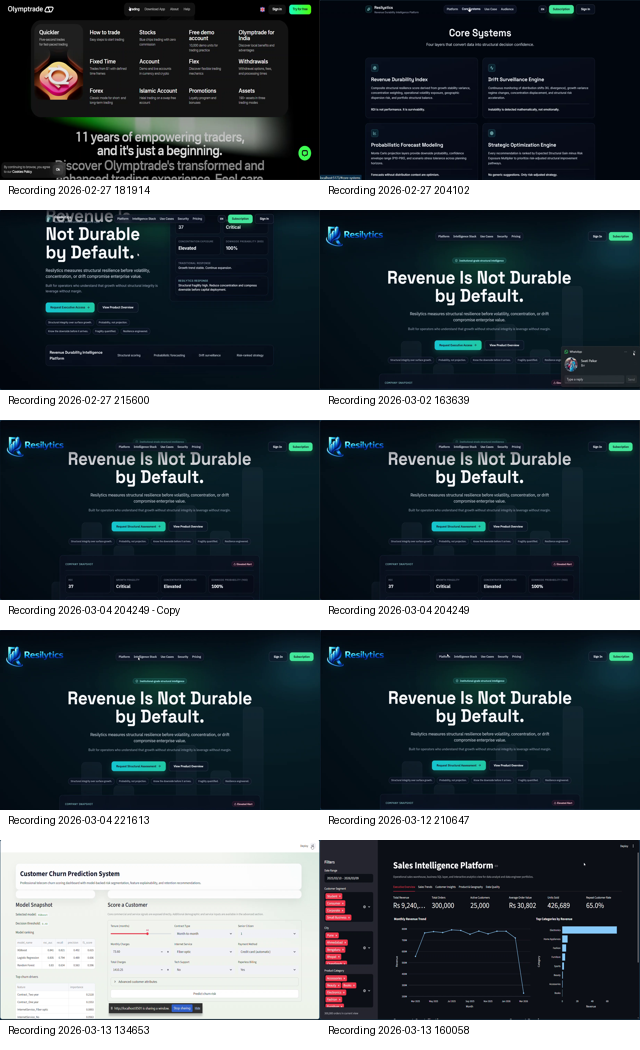

Layout of this report page (visuals, bound fields, positions):
{"tool":"powerbi","page":{"name":"Page 1","canvas":[1280,720],"ordinal":0},"visuals":[{"type":"card","title":"REVENUE","fields":{"Values":["fact_sales.Total Revenue"]},"box":[0,65,215,88.8],"z":0},{"type":"card","title":"ORDER VALUE","fields":{"Values":["fact_sales.Avg Order Value"]},"box":[230,153.8,215,87.5],"z":1000},{"type":"card","title":"UNIT SOLD","fields":{"Values":["fact_sales.Units Sold"]},"box":[230,65,215,88.8],"z":2000},{"type":"card","title":"TOTAL ORDERS","fields":{"Values":["fact_sales.Total Orders"]},"box":[0,153.8,215,87.5],"z":3000},{"type":"lineChart","title":"Monthly Revenue Growth Trend","fields":{"Category":["dim_date.Month Name"],"Y":["fact_sales.Total Revenue"]},"box":[0,242.5,402.5,236.2],"z":4000},{"type":"donutChart","title":"Category Revenue Contribution","fields":{"Category":["dim_product.category"],"Y":["fact_sales.Total Revenue"]},"box":[402.5,242.5,437.5,236.2],"z":5000},{"type":"pieChart","title":"Customer Segment Revenue","fields":{"Category":["dim_customer.segment"],"Y":["fact_sales.Total Revenue"]},"box":[840,242.5,440,235],"z":6000},{"type":"barChart","title":"Top Performing Products","fields":{"Category":["dim_product.product_name"],"Y":["fact_sales.Total Revenue"]},"box":[0,478.8,402.5,241.2],"z":7000},{"type":"map","title":"City Sales Distribution","fields":{"Size":["fact_sales.Total Revenue"],"Category":["dim_customer.city"]},"box":[840,477.5,440,242.5],"z":9000},{"type":"slicer","title":"CATEGORY","fields":{"Values":["dim_product.category"]},"box":[458.8,0,181.2,241.2],"z":10000},{"type":"slicer","title":"PRODUCT","fields":{"Values":["dim_product.product_name"]},"box":[650,0,180,242.5],"z":11000},{"type":"slicer","title":"CITY","fields":{"Values":["dim_customer.city"]},"box":[830,0,142.5,241.2],"z":12000},{"type":"slicer","title":"SEGMENT","fields":{"Values":["dim_customer.segment"]},"box":[972.5,0,153.8,241.2],"z":13000},{"type":"slicer","title":"CATEGORY","fields":{"Values":["dim_date.year"]},"box":[1126,174,154,68],"z":14000},{"type":"slicer","title":"MONTH","fields":{"Values":["dim_date.Month Name"]},"box":[1126.2,0,153.8,173.8],"z":15000},{"type":"textbox","box":[0,0,445,65],"z":16000},{"type":"barChart","title":"Top Performing Product Categories","fields":{"Category":["dim_product.category"],"Y":["fact_sales.Total Revenue"]},"box":[402.5,478.8,437.5,241.2],"z":16001}]}

Visuals, with their boxes on the page's 1280x720 design canvas (x1, y1, x2, y2). These are canvas units, not pixel positions in the 640x1050 screenshot, which may show the page scaled, cropped or inside an application window:
"REVENUE" card: l=0, t=65, r=215, b=154
"ORDER VALUE" card: l=230, t=154, r=445, b=241
"UNIT SOLD" card: l=230, t=65, r=445, b=154
"TOTAL ORDERS" card: l=0, t=154, r=215, b=241
"Monthly Revenue Growth Trend" lineChart: l=0, t=242, r=402, b=479
"Category Revenue Contribution" donutChart: l=402, t=242, r=840, b=479
"Customer Segment Revenue" pieChart: l=840, t=242, r=1280, b=478
"Top Performing Products" barChart: l=0, t=479, r=402, b=720
"City Sales Distribution" map: l=840, t=478, r=1280, b=720
"CATEGORY" slicer: l=459, t=0, r=640, b=241
"PRODUCT" slicer: l=650, t=0, r=830, b=242
"CITY" slicer: l=830, t=0, r=972, b=241
"SEGMENT" slicer: l=972, t=0, r=1126, b=241
"CATEGORY" slicer: l=1126, t=174, r=1280, b=242
"MONTH" slicer: l=1126, t=0, r=1280, b=174
textbox: l=0, t=0, r=445, b=65
"Top Performing Product Categories" barChart: l=402, t=479, r=840, b=720
